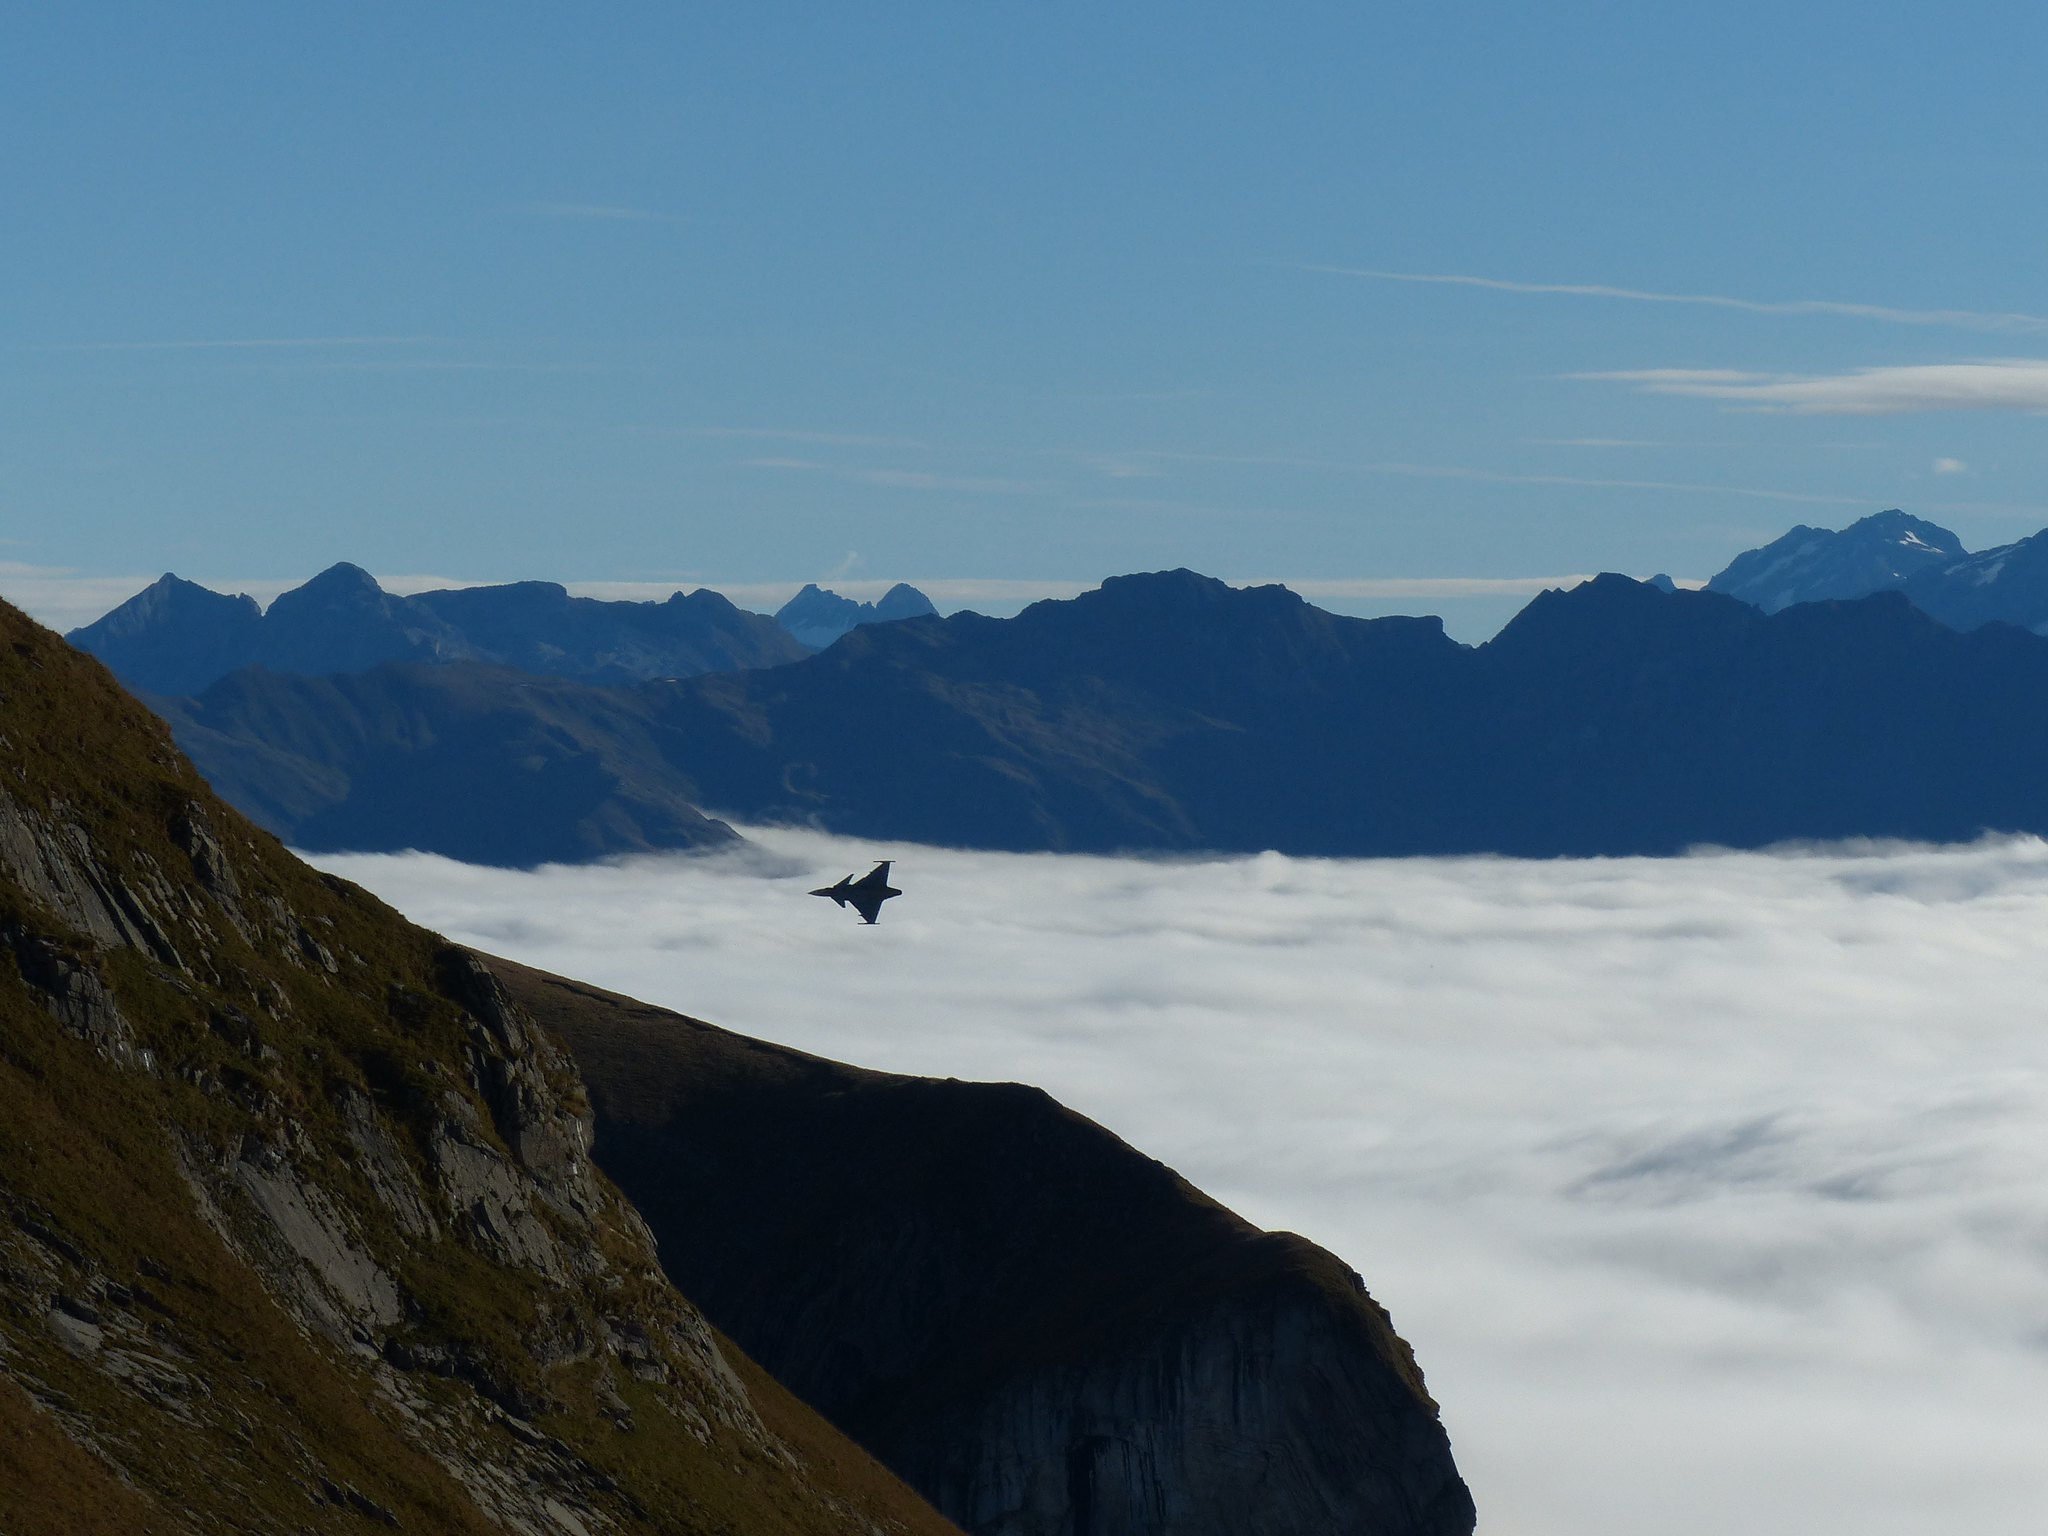JAS39: (805, 860, 903, 925)
